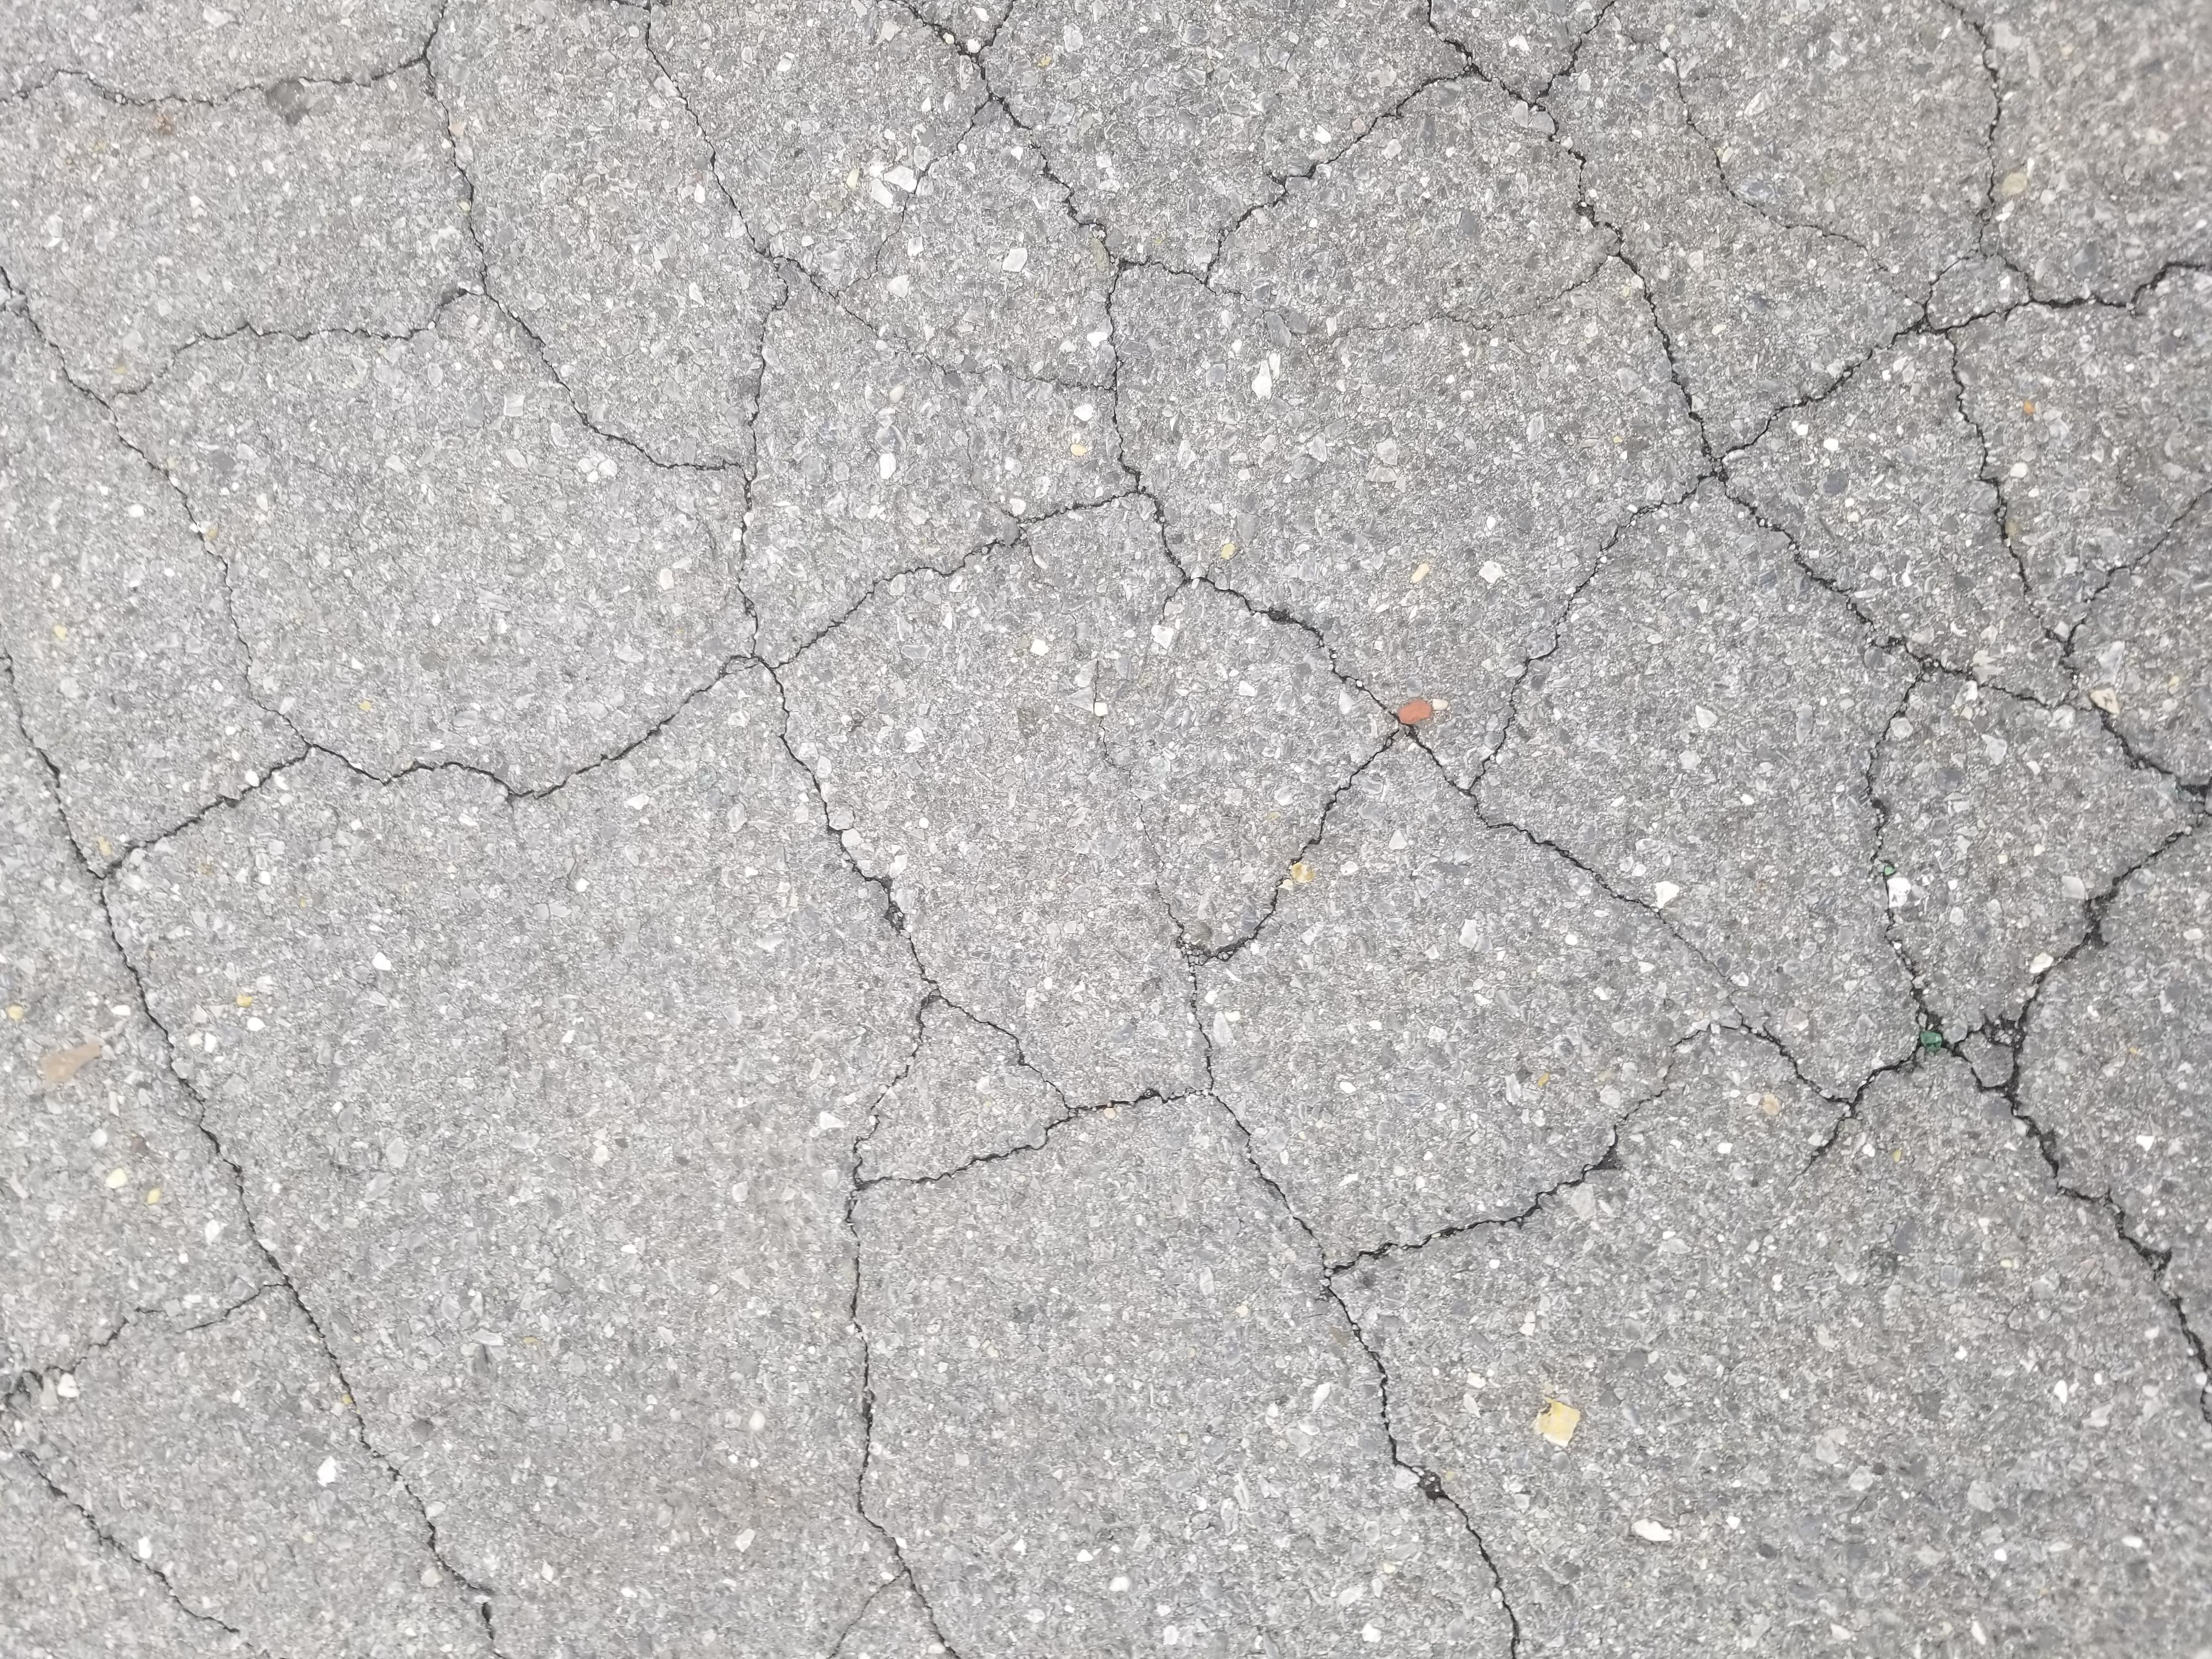alligator-crack: (16, 0, 2212, 1659)
